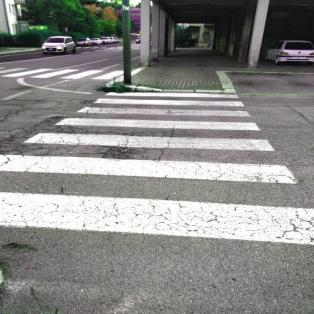Paso de Cebra: (11, 117, 282, 156)
